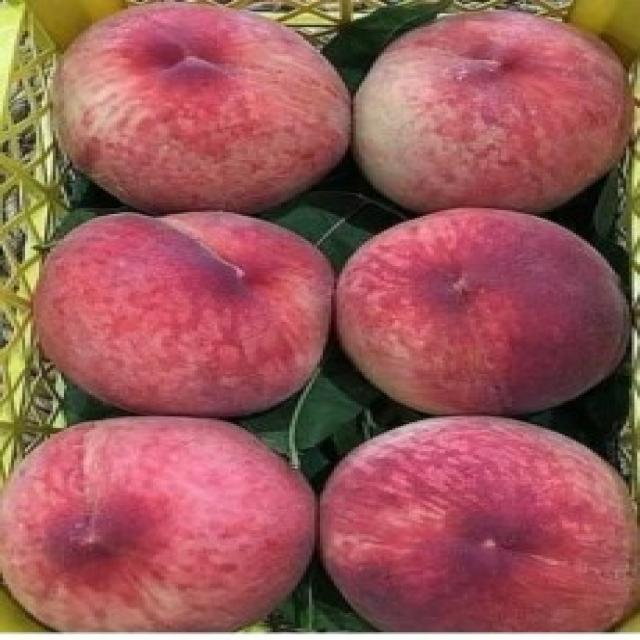peach: (3, 412, 320, 640), (3, 210, 331, 413), (325, 420, 640, 630), (47, 2, 348, 210), (339, 210, 629, 417), (356, 8, 635, 208)
